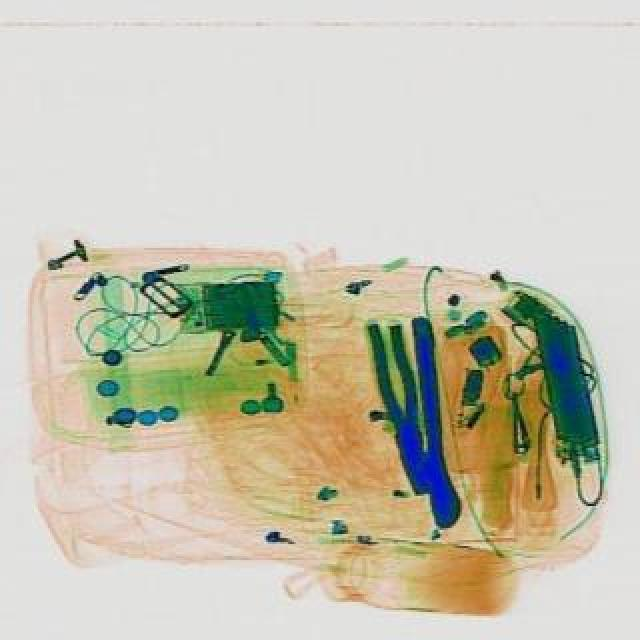scissors: (400, 314, 462, 530)
wrench: (358, 316, 442, 498)
